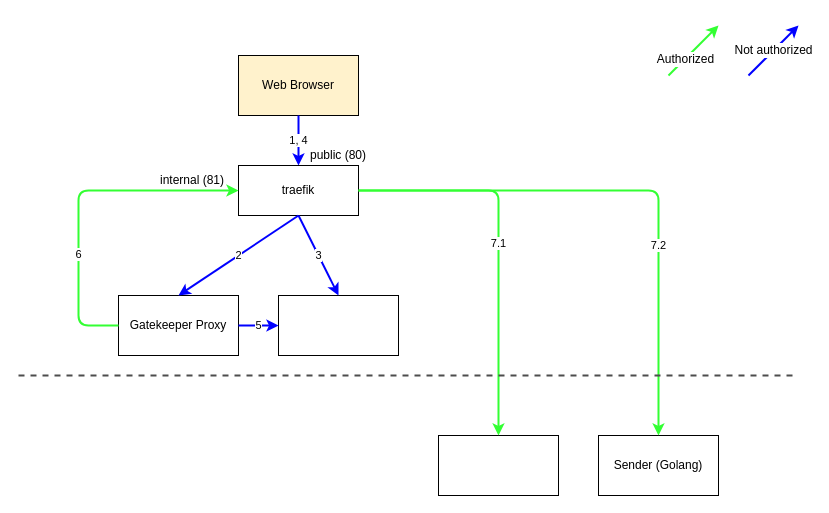
Some shapes in this 829 by 513 pixel diagram are drawn without their labels. The shapes that lost their labels are listed below. From the top down, each one's centre as x and y in pixels, then its label:
At point 338,325: "OIDC IdP (Keycloak)".
At point 498,465: "Chat (Kotlin)".
